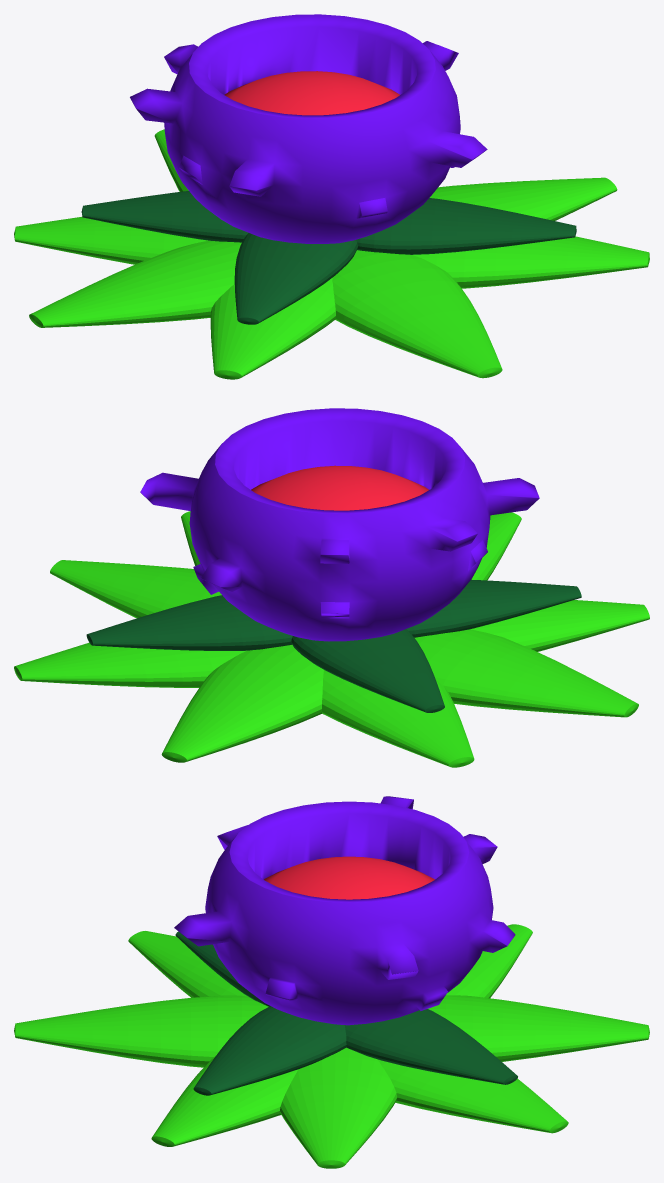
The model's file is poison_Plant.fbx.
3 views of the same model, one above another, from view 1: azimuth 30°, elevation 25°; view 2: azimuth 150°, elevation 25°; view 3: azimuth 270°, elevation 25° (orthographic). The views are drawn at different scales.
Visible parts, largest first — view 1: Petals, Sphere; view 2: Petals, Sphere; view 3: Petals, Sphere.
Part boxes in pixels (x1,y1,x2,y2): Petals: [14, 129, 649, 379]; Sphere: [130, 14, 487, 243]; Petals: [14, 511, 649, 767]; Sphere: [140, 408, 539, 641]; Petals: [14, 924, 649, 1168]; Sphere: [174, 796, 515, 1025].
Bounding box in the file's own units: 752 × 256 × 746.
